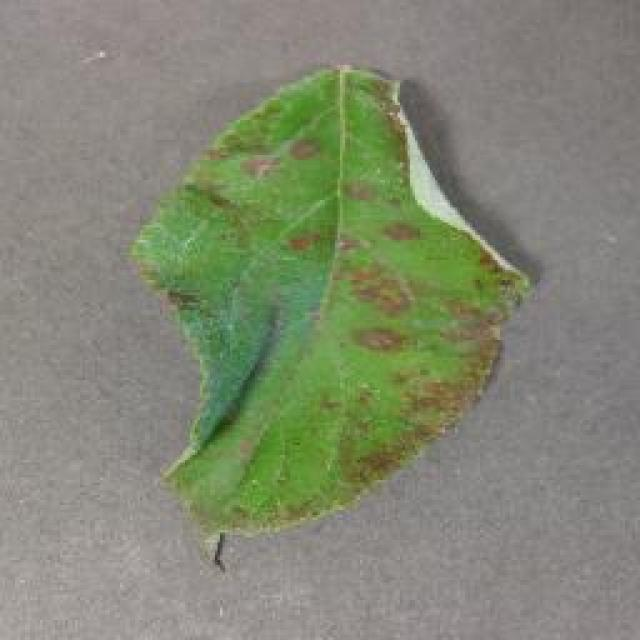apple rust disease: (125, 60, 533, 568)
